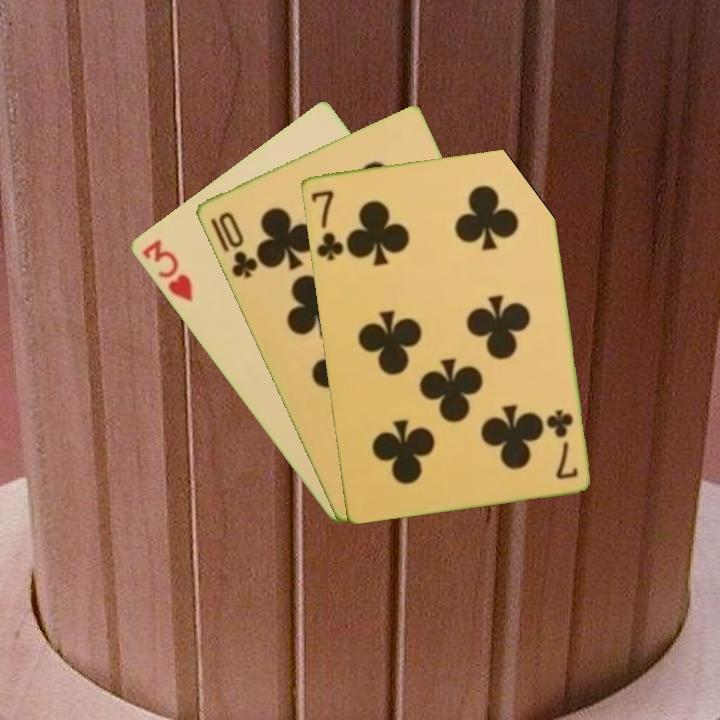10c: (214, 208, 260, 282)
3h: (138, 235, 196, 305)
7c: (307, 186, 346, 263), (543, 405, 580, 482)
